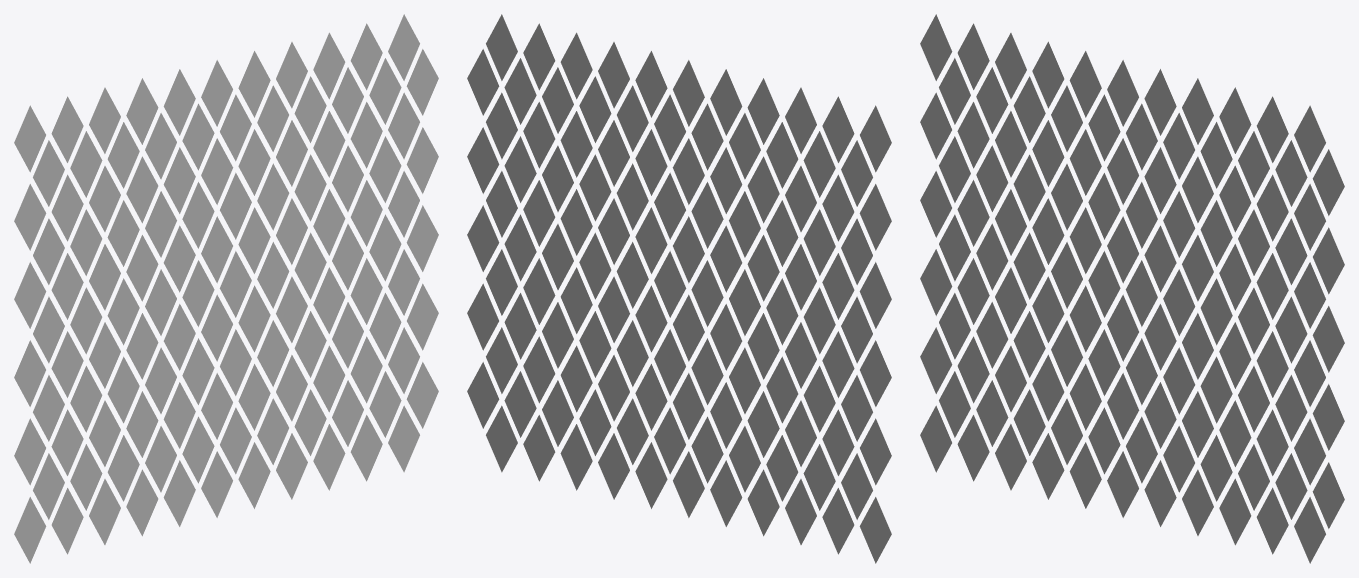
File: rhomboidmosaic.gltf
The picture shows the model from 3 angles, left to right: view 1: azimuth 30°, elevation 25°; view 2: azimuth 150°, elevation 25°; view 3: azimuth 330°, elevation 25°; orthographic projection.
Parts seen in each view (by area): view 1: rhomboidmosaic; view 2: rhomboidmosaic; view 3: rhomboidmosaic.
Boxes of the visible parts, box(x1,y1,x2,y2) form: rhomboidmosaic: box(14, 14, 438, 563); rhomboidmosaic: box(467, 14, 891, 563); rhomboidmosaic: box(920, 14, 1344, 563).
Size of the model in its own units: 293 by 302 by 0.
Materials: 121 (121 with a texture image).
